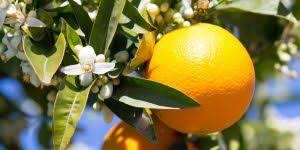orange: (143, 26, 260, 133)
